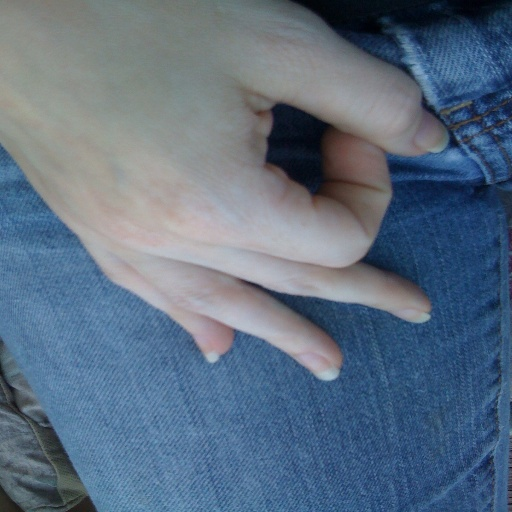hand: (0, 0, 444, 379)
